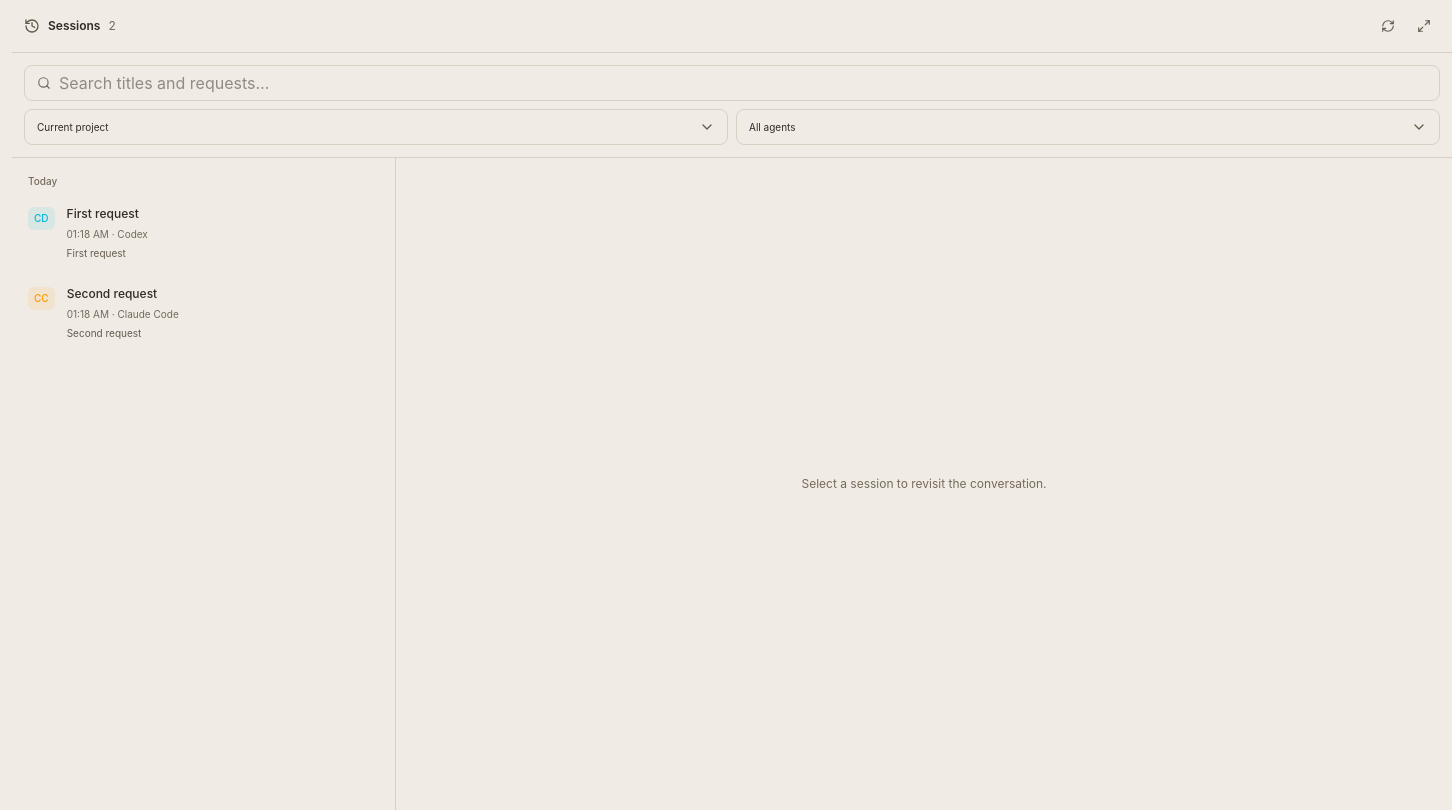
ignores stale detail responses and does not load while hidden
Click the button "CD First request 01:18 AM · Codex First request" at (103, 214), box [12,193,395,273]
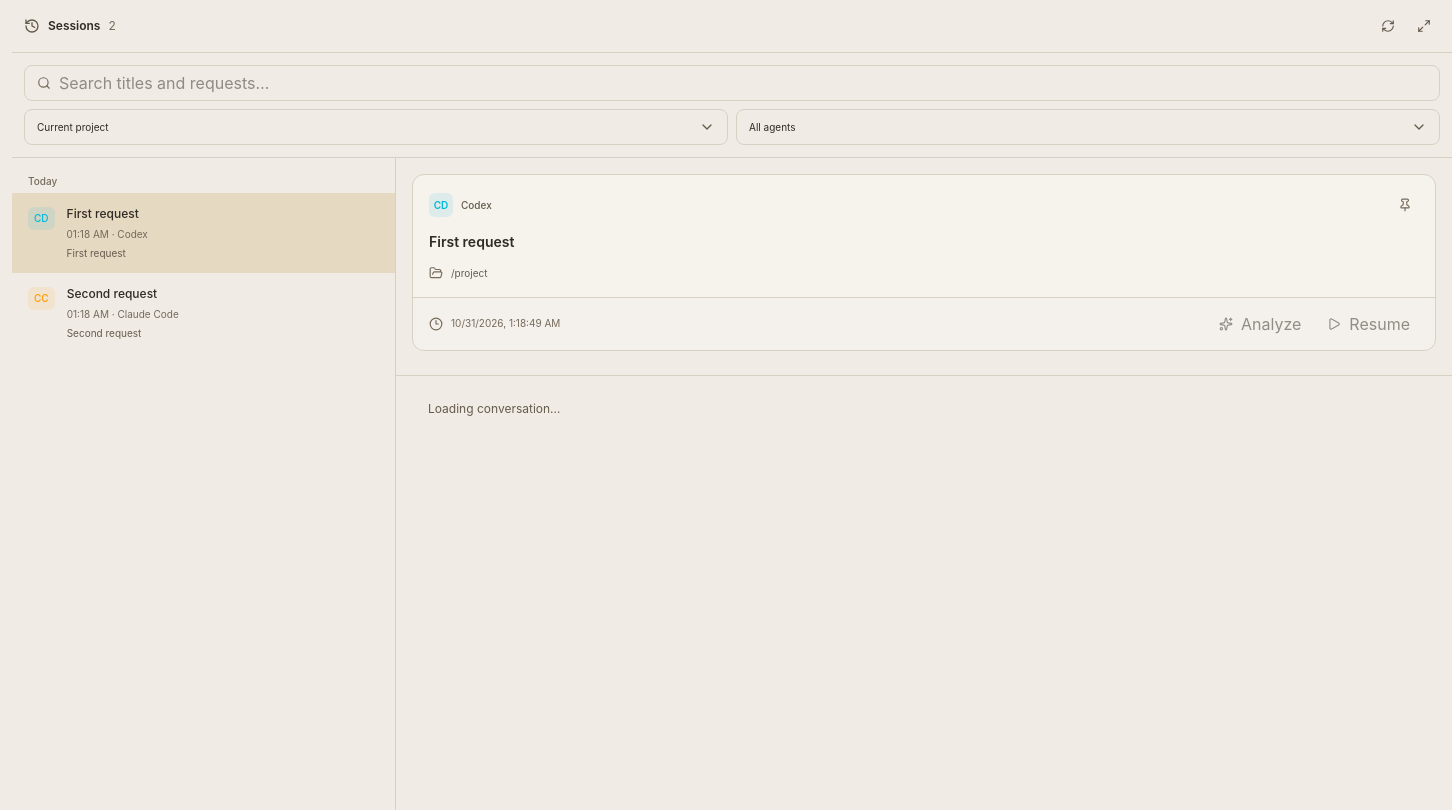
Click the button "CC Second request 01:18 AM · Claude Code Second request" at (112, 294), box [12,273,395,353]
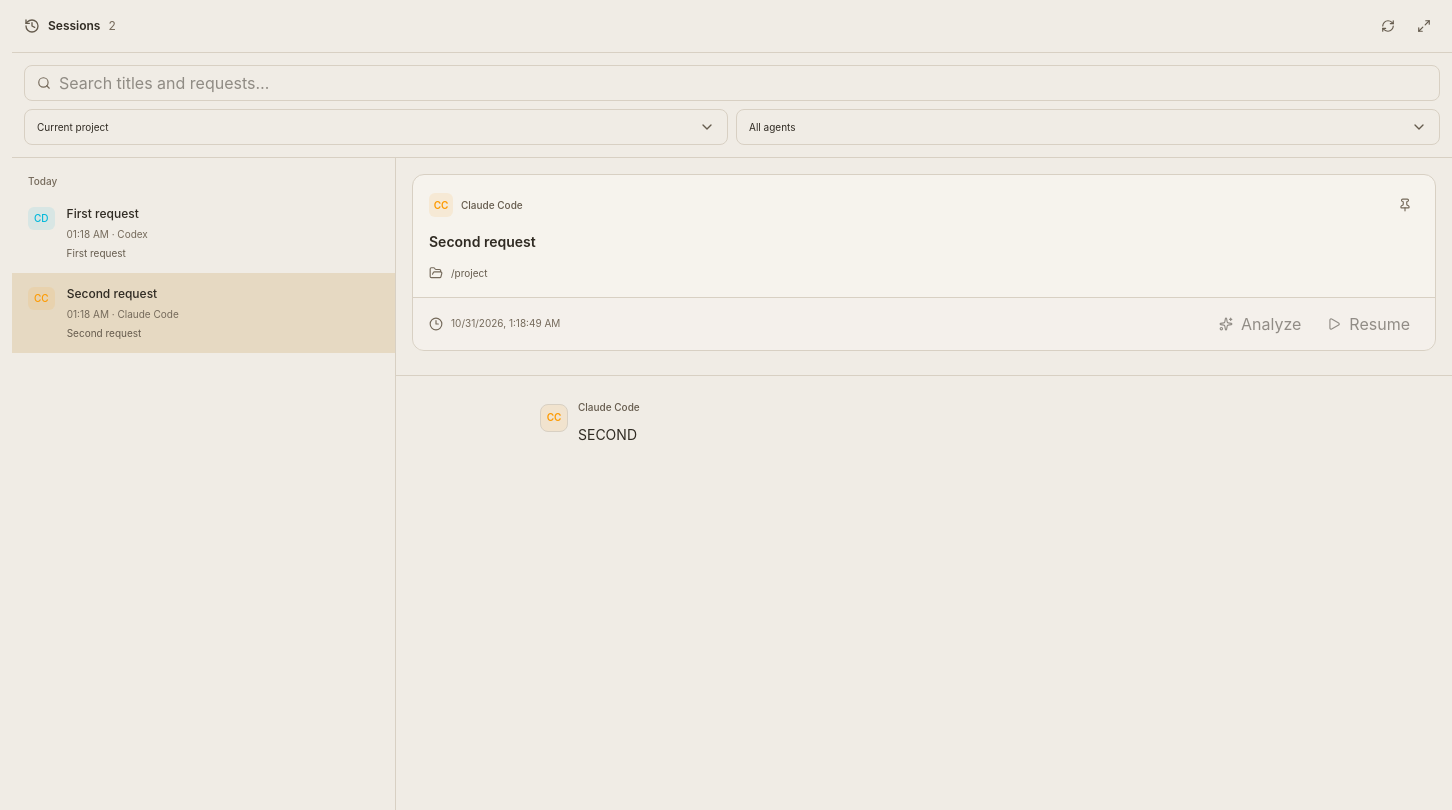
expect the text "SECOND" is shown: met, box [578,426,637,443]
